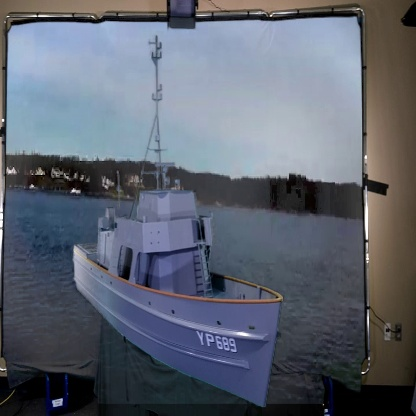YP689: (75, 37, 280, 412)
